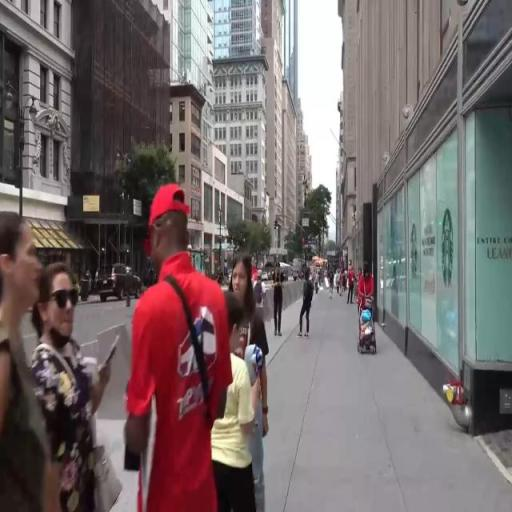person: (137, 190, 219, 512), (44, 269, 124, 512), (1, 209, 43, 512), (223, 301, 270, 512), (235, 260, 270, 392), (359, 269, 378, 373), (273, 260, 288, 352), (297, 269, 314, 347), (347, 268, 358, 312), (329, 268, 338, 304), (315, 270, 323, 300), (341, 269, 347, 303), (336, 266, 341, 292)
